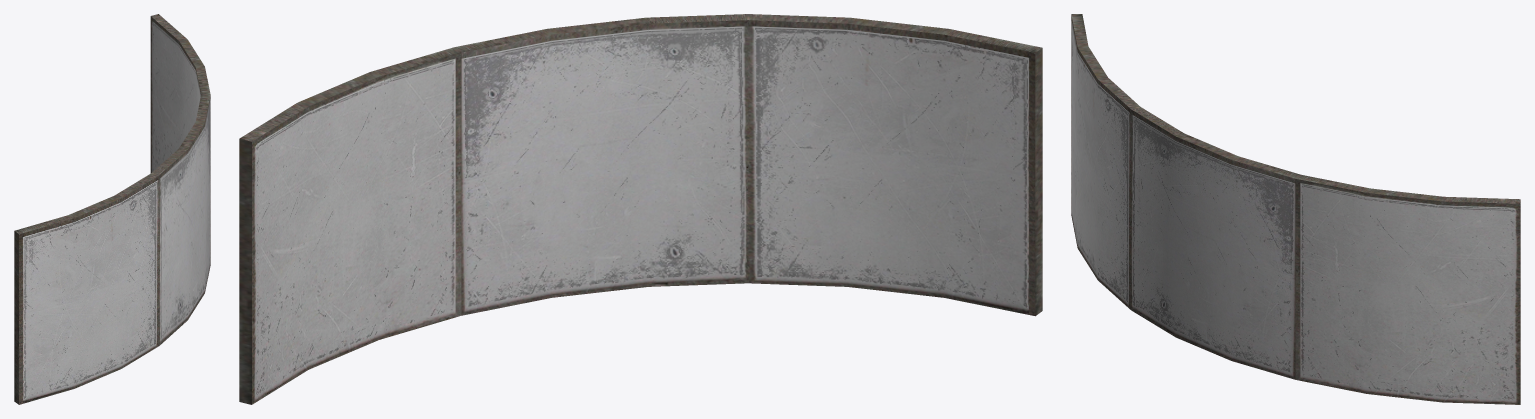
The model's file is pG_wall_06.fbx.
3 renders of one model, left to right at view 1: azimuth 30°, elevation 25°; view 2: azimuth 150°, elevation 25°; view 3: azimuth 270°, elevation 25°, orthographic. The views are drawn at different scales.
Parts seen in each view (by area): view 1: pG_wall_06; view 2: pG_wall_06; view 3: pG_wall_06.
Boxes of the visible parts, <box> form: pG_wall_06: <box>14,14,210,404</box>; pG_wall_06: <box>239,14,1042,404</box>; pG_wall_06: <box>1071,14,1520,404</box>.
Size of the model in its own units: 203 by 100 by 202.
1 material, 1 textured.
